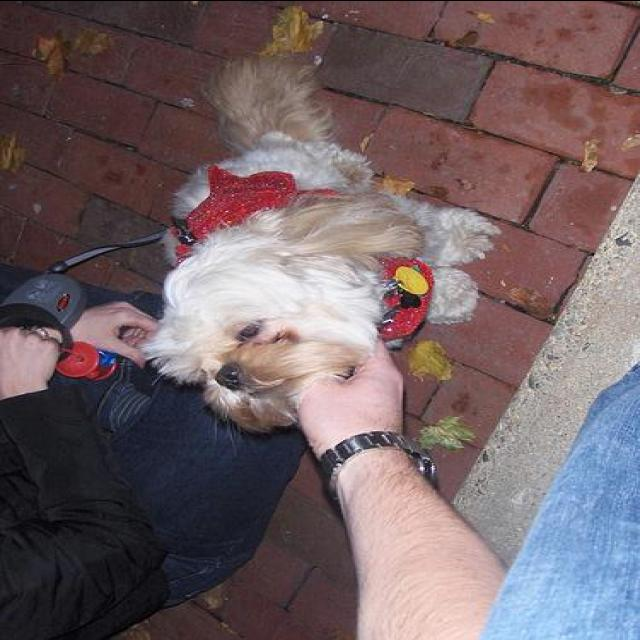shih_tzu: (138, 46, 505, 436)
